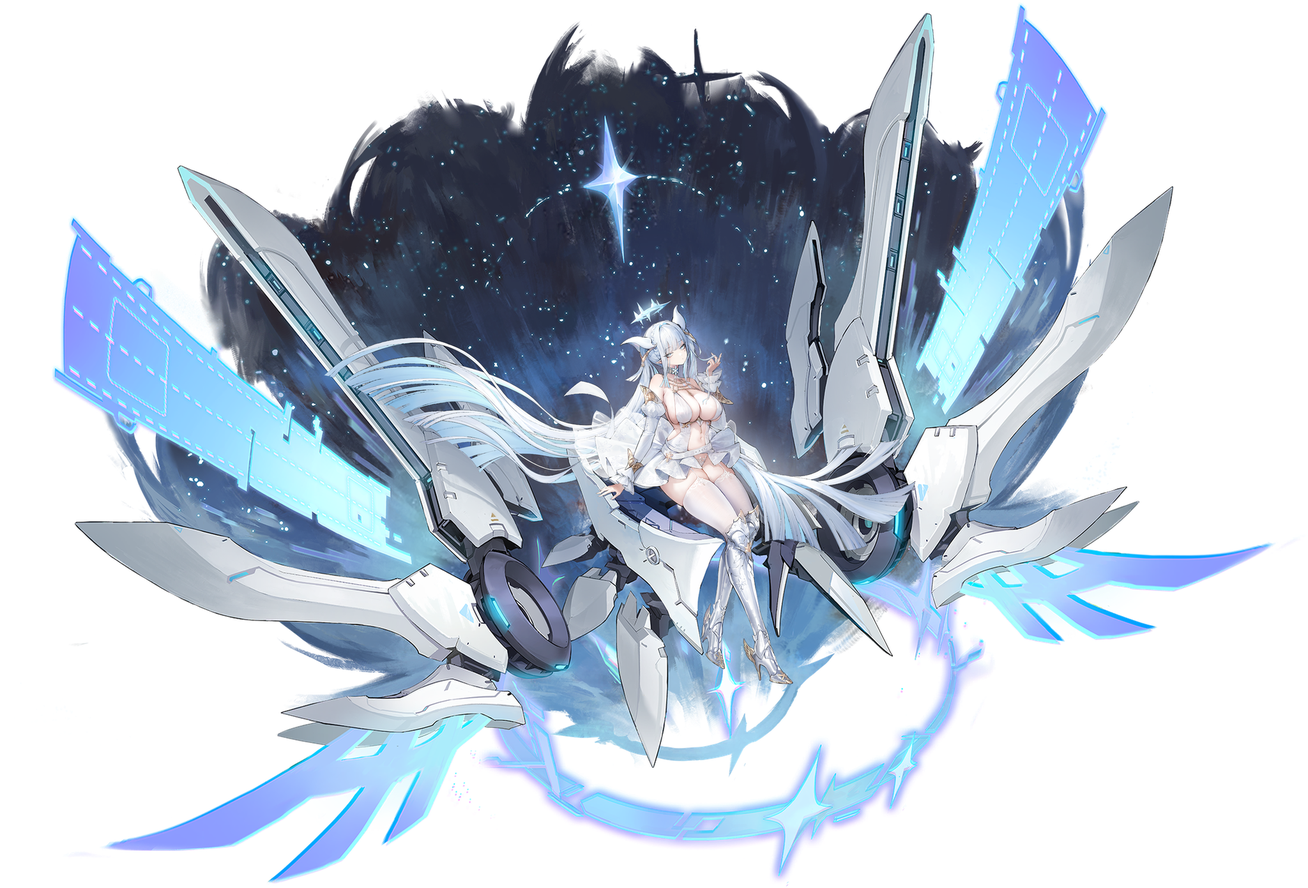person: (526, 256, 959, 857)
